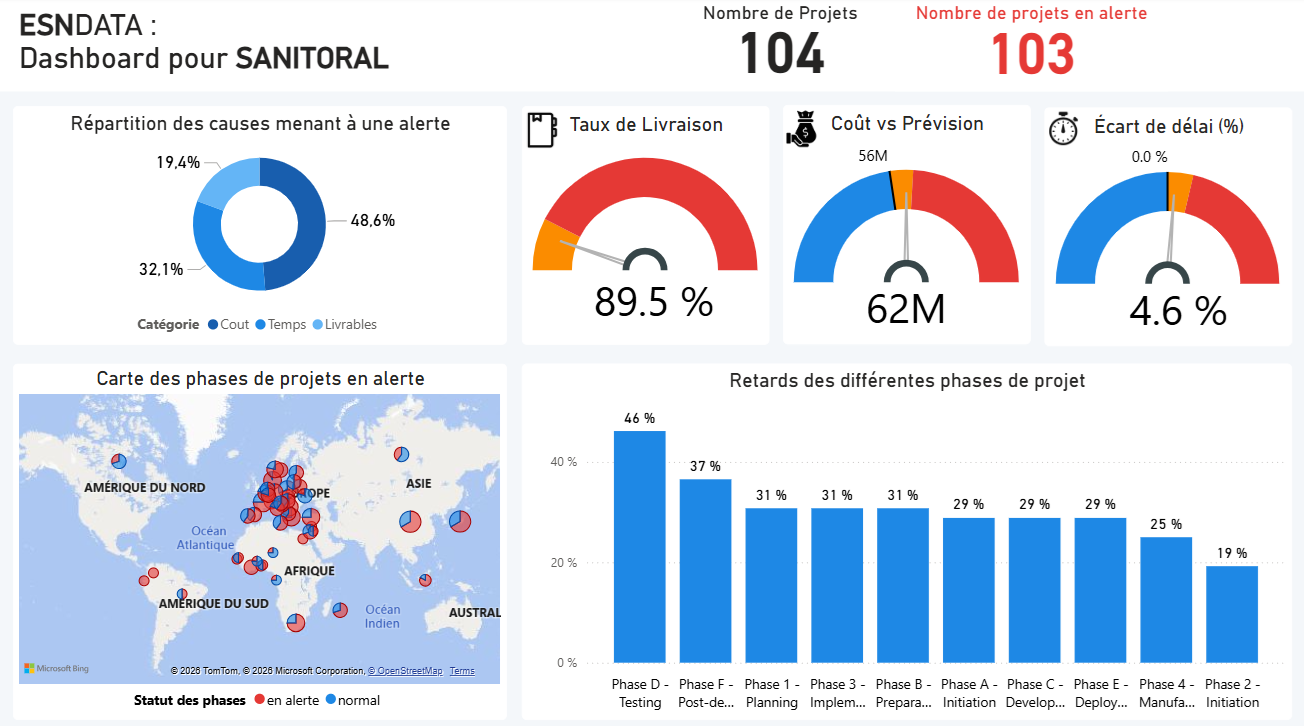

This screenshot's page, from the dashboard's own definition file:
{"tool":"powerbi","page":{"name":"Project Performance Dashboard","canvas":[1280,720],"ordinal":0},"visuals":[{"type":"map","title":"Carte des phases de projets en alerte","fields":{"Category":["Projects_Locations.Country"],"Series":["Projects_plans.Niveau d’alerte des projets"],"Size":["_Calculations.Nombre total de phases"]},"box":[14.7,359.5,483,348.5],"z":0},{"type":"card","title":"Nombre de Projets","fields":{"Values":["Projects_plans.Nb_Projets"]},"box":[668.9,6.1,193.2,85.6],"z":1000},{"type":"card","title":"Nombre de projets en alerte","fields":{"Values":["Projects_plans.Nb_Projets_en_Alerte"]},"box":[878,6.1,266.6,86.8],"z":2000},{"type":"columnChart","title":"Retards des différentes phases de projet","fields":{"Y":["Projects_plans.% Phases en Retard par Phase"],"Category":["Projects_plans.Phase"]},"box":[512.4,359.5,753.3,348.5],"z":3000},{"type":"donutChart","title":"Répartition des causes menant à une alerte","fields":{"Category":["Categorie_Alerte.Categorie"],"Y":["Categorie_Alerte.%_Cause_Parmi_Projets_En_Alerte"]},"box":[14.7,107.6,483,233.6],"z":4000},{"type":"textbox","box":[14.7,6,483,85.6],"z":5000},{"type":"Tachometer1474636471549","title":"Coût vs Prévision","fields":{"Y":["_Calculations.Coût Réel"],"TargetValue":["_Calculations.Coût Prévu"],"Range2StartValue":["_Calculations.Coût Prévu"],"Range3StartValue":["_Calculations.Cout critique"]},"box":[768,106.4,242,234.8],"z":6000},{"type":"image","box":[766,106.4,40.4,47.7],"z":7000},{"type":"Tachometer1474636471549","title":"Taux de Livraison","fields":{"Y":["_Calculations.Livrables en %"],"Range2StartValue":["_Calculations.Tolérance Livrables"],"StartValue":["_Calculations.Target Livrables"],"EndValue":["_Calculations.debut livrable"]},"box":[512.4,107.6,242,233.6],"z":8000},{"type":"image","box":[512.4,107.6,40.4,47.7],"z":9000},{"type":"Tachometer1474636471549","title":"Écart de délai (%)","fields":{"Y":["_Calculations.Retard Moyen en %"],"StartValue":["_Calculations.Retard Min"],"EndValue":["_Calculations.Retard Max"],"TargetValue":["_Calculations.Retard Target"],"Range3StartValue":["_Calculations.Tolérance Retard"],"Range2StartValue":["_Calculations.Retard Target"]},"box":[1023.5,108.8,242,233.6],"z":10000},{"type":"image","box":[1023,105.2,38,48.9],"z":11000}]}

Visuals, with their boxes in screenshot pixels (x1, y1, x2, y2), scaled from the page's 1280x720 canvas onto the 1304x726 screenshot:
"Carte des phases de projets en alerte" map: region(15, 362, 507, 714)
"Nombre de Projets" card: region(681, 6, 878, 92)
"Nombre de projets en alerte" card: region(894, 6, 1166, 94)
"Retards des différentes phases de projet" columnChart: region(522, 362, 1289, 714)
"Répartition des causes menant à une alerte" donutChart: region(15, 108, 507, 344)
textbox: region(15, 6, 507, 92)
"Coût vs Prévision" Tachometer1474636471549: region(782, 107, 1029, 344)
image: region(780, 107, 822, 155)
"Taux de Livraison" Tachometer1474636471549: region(522, 108, 769, 344)
image: region(522, 108, 563, 157)
"Écart de délai (%)" Tachometer1474636471549: region(1043, 110, 1289, 345)
image: region(1042, 106, 1081, 155)
